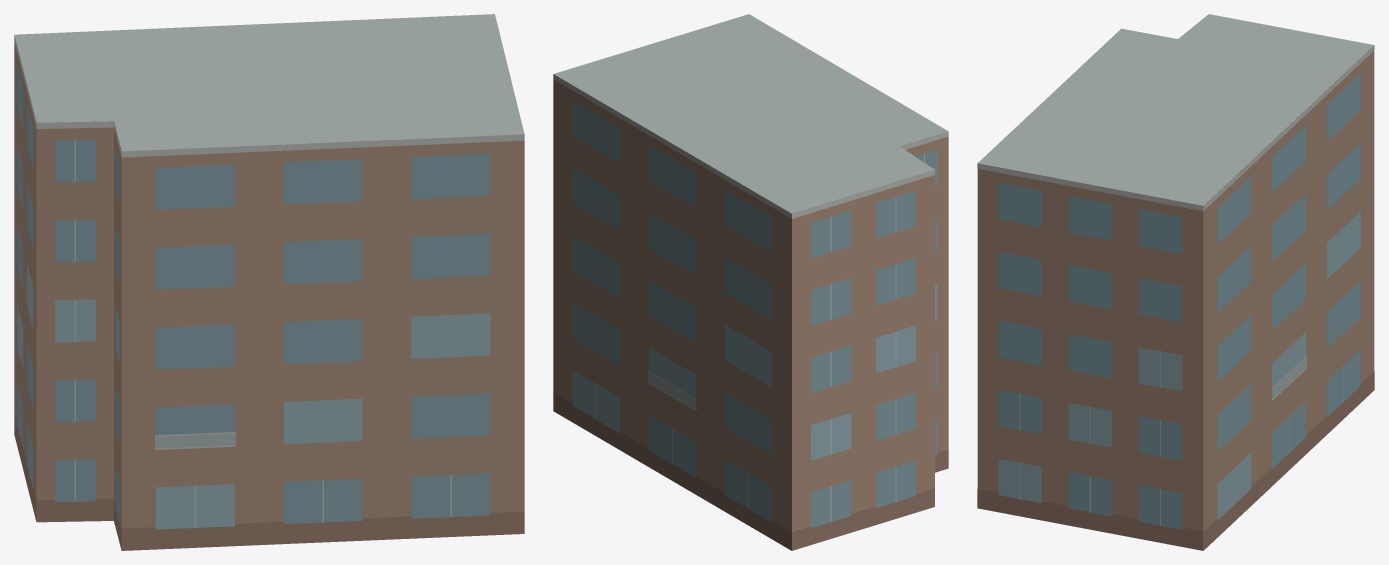
The model's file is survey-upis-32672311.glb.
The picture shows the model from 3 angles, left to right: view 1: azimuth 30°, elevation 25°; view 2: azimuth 150°, elevation 25°; view 3: azimuth 270°, elevation 25°; orthographic projection. The views are drawn at different scales.
Visible parts, largest first — view 1: survey-upis-32672311.tmp; view 2: survey-upis-32672311.tmp; view 3: survey-upis-32672311.tmp.
Part boxes in pixels (<box>): survey-upis-32672311.tmp: <box>14,14,524,550</box>; survey-upis-32672311.tmp: <box>553,14,948,550</box>; survey-upis-32672311.tmp: <box>977,14,1374,550</box>.
Bounding box in the file's own units: 18.74 × 15.7 × 16.38.
